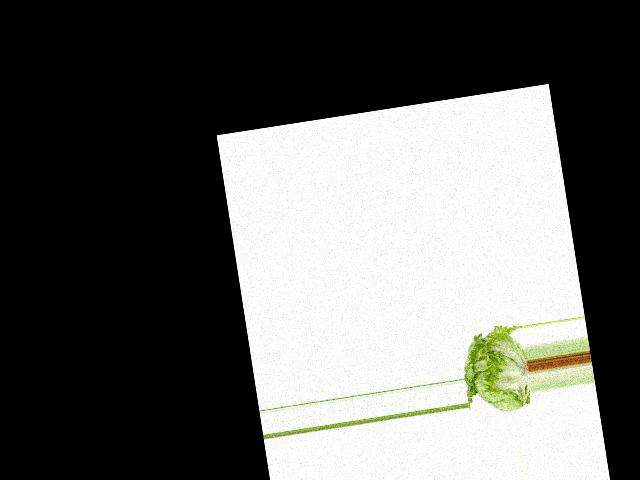lettuce: (457, 318, 535, 419)
